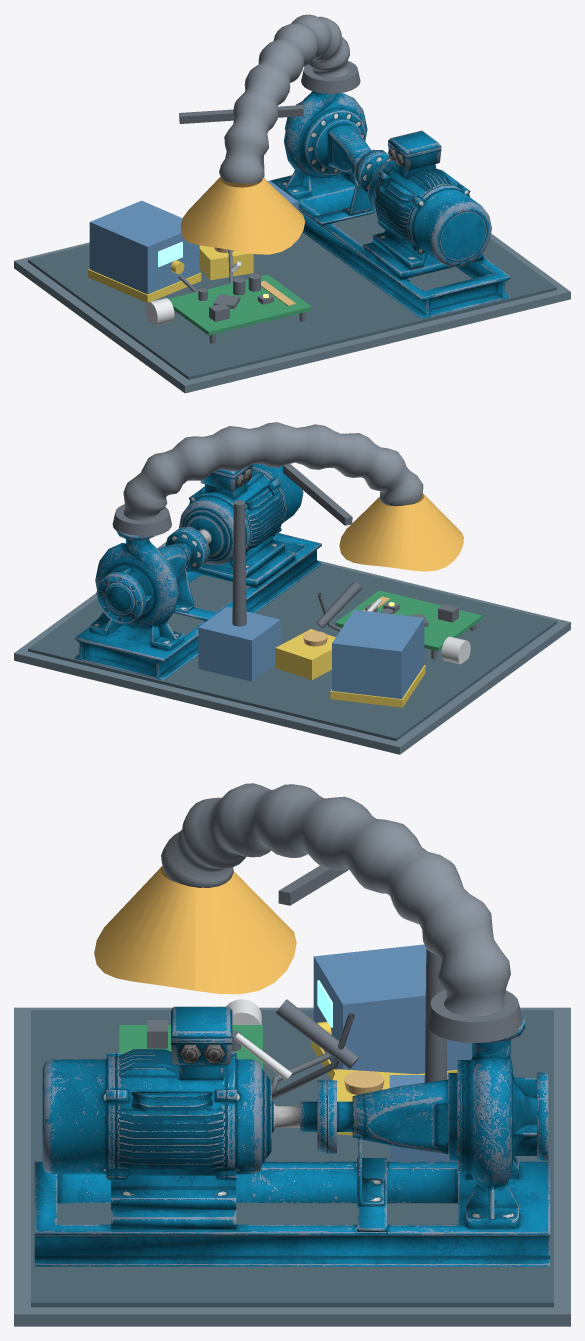
File: fume_extractor.glb
3 renders of one model, top to bottom at view 1: azimuth 30°, elevation 25°; view 2: azimuth 150°, elevation 25°; view 3: azimuth 270°, elevation 25°, orthographic. The views are drawn at different scales.
Parts seen in each view (by area): view 1: FumeExtractor_SMOKE_TRAP; view 2: FumeExtractor_SMOKE_TRAP; view 3: FumeExtractor_SMOKE_TRAP.
Boxes of the visible parts, box(x1,y1,x2,y2) form: FumeExtractor_SMOKE_TRAP: box(14, 14, 570, 393); FumeExtractor_SMOKE_TRAP: box(14, 422, 570, 754); FumeExtractor_SMOKE_TRAP: box(14, 783, 570, 1326).
Bounding box in the file's own units: 1.72 × 0.9807 × 1.32.
13 materials, 1 textured.
